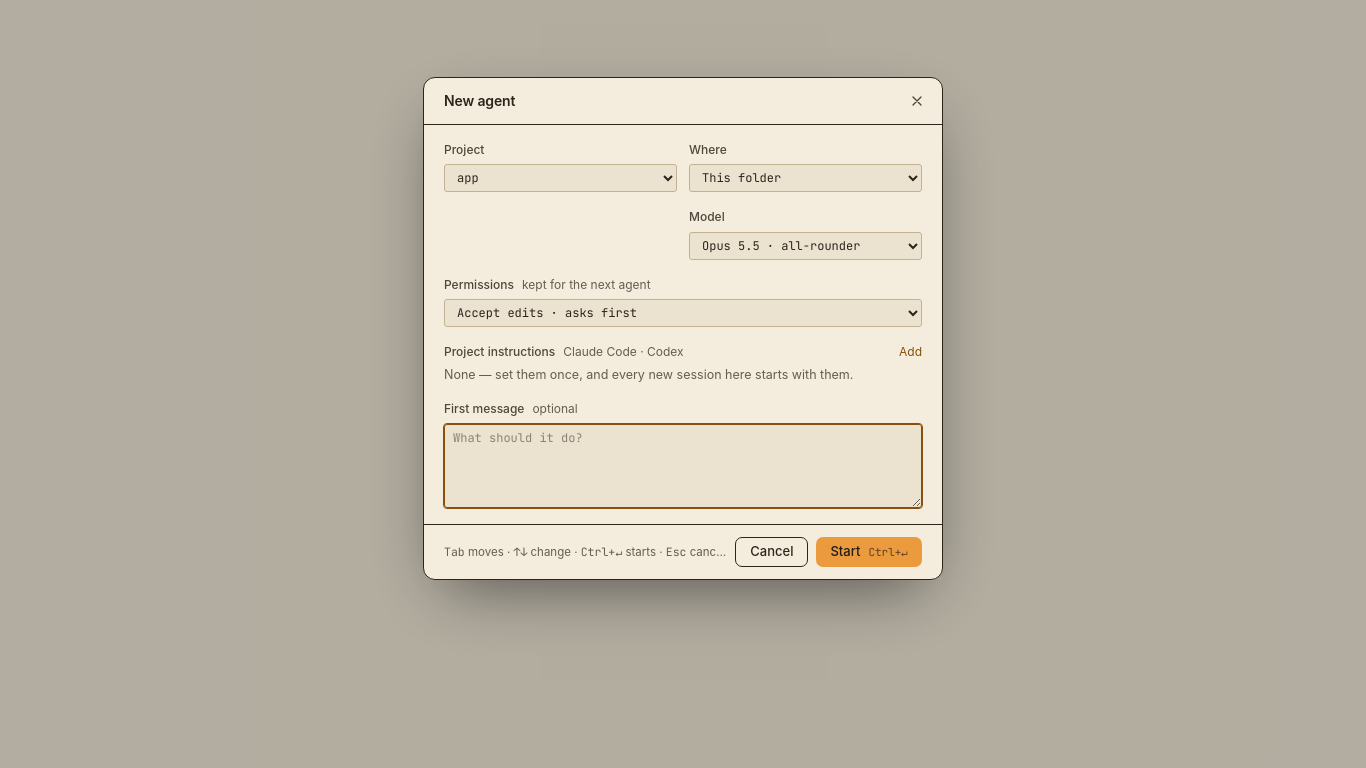
Test: Where, in plain words › explains a new copy in one line and asks for a branch name
Select "New copy on its own branch" in the dropdown labelled "Where": (806, 178) [689,164,922,192]
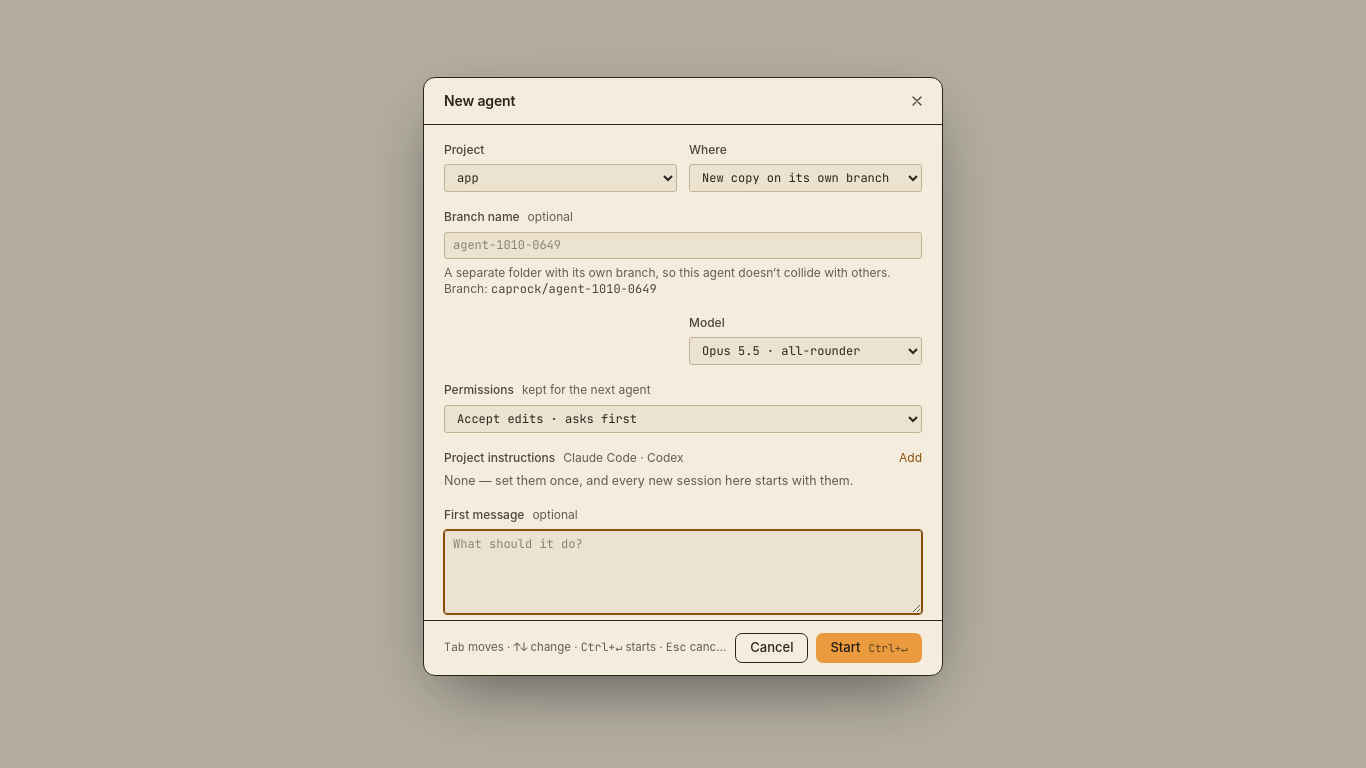
Now the field labelled "Branch name optional" is shown
Now the text "A separate folder with its own branch, so this agent doesn’t collide with others. Branch:" is shown, box [444,265,891,296]
Now the text "caprock/agent-1010-0649" is shown, box [491,282,657,298]
In the field labelled "Branch name optional": (683, 245) [444,232,922,259], type "login-fix"
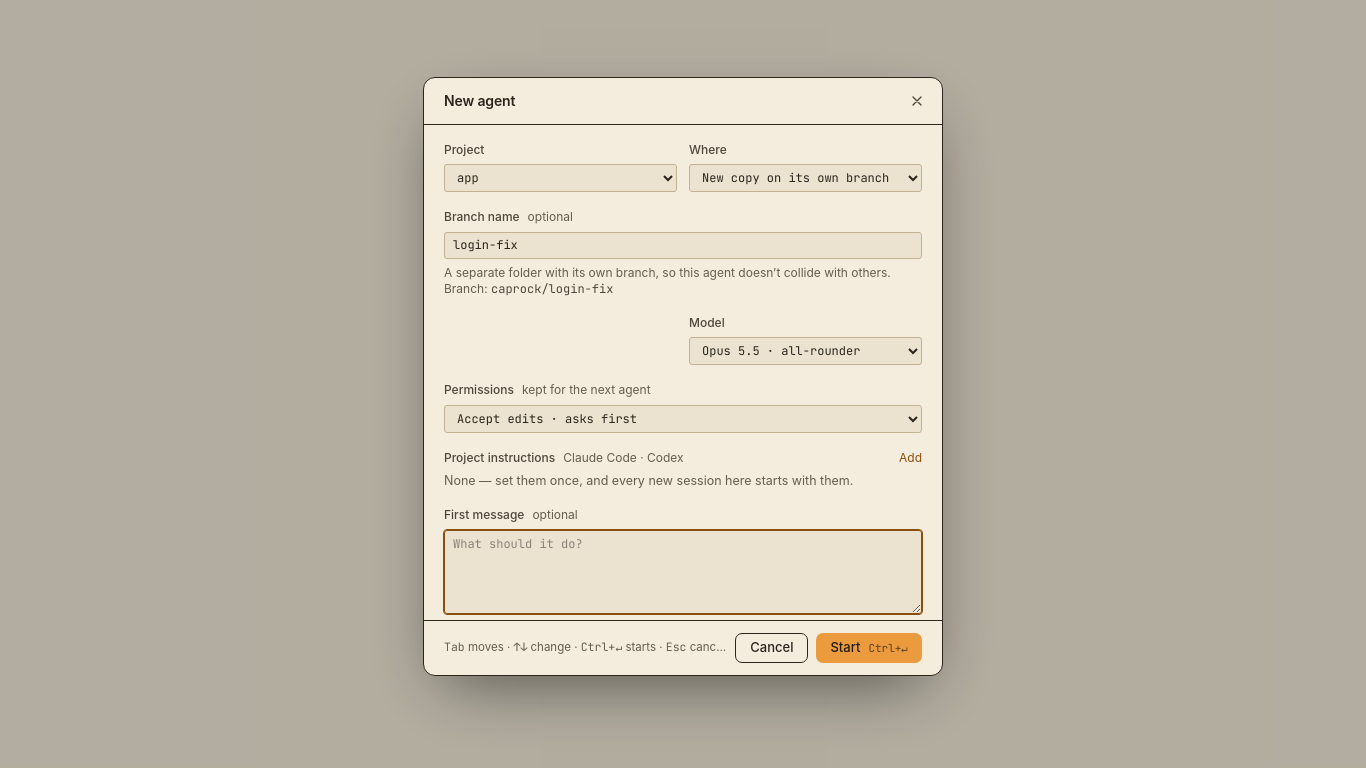
Now the text "caprock/login-fix" is shown, box [491,282,613,298]
